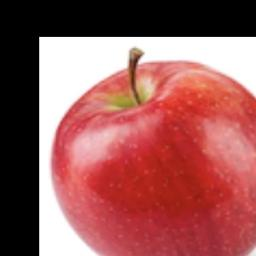Apple Fresh: (44, 32, 256, 256)
